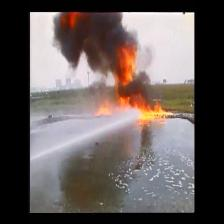fire: (120, 50, 141, 115), (142, 106, 167, 117)
smoke: (60, 13, 132, 48)
